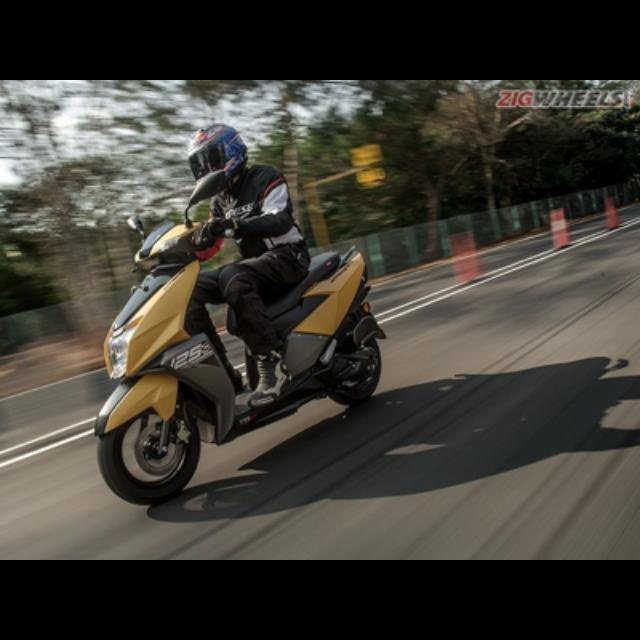With Helmet: (179, 114, 251, 194)
